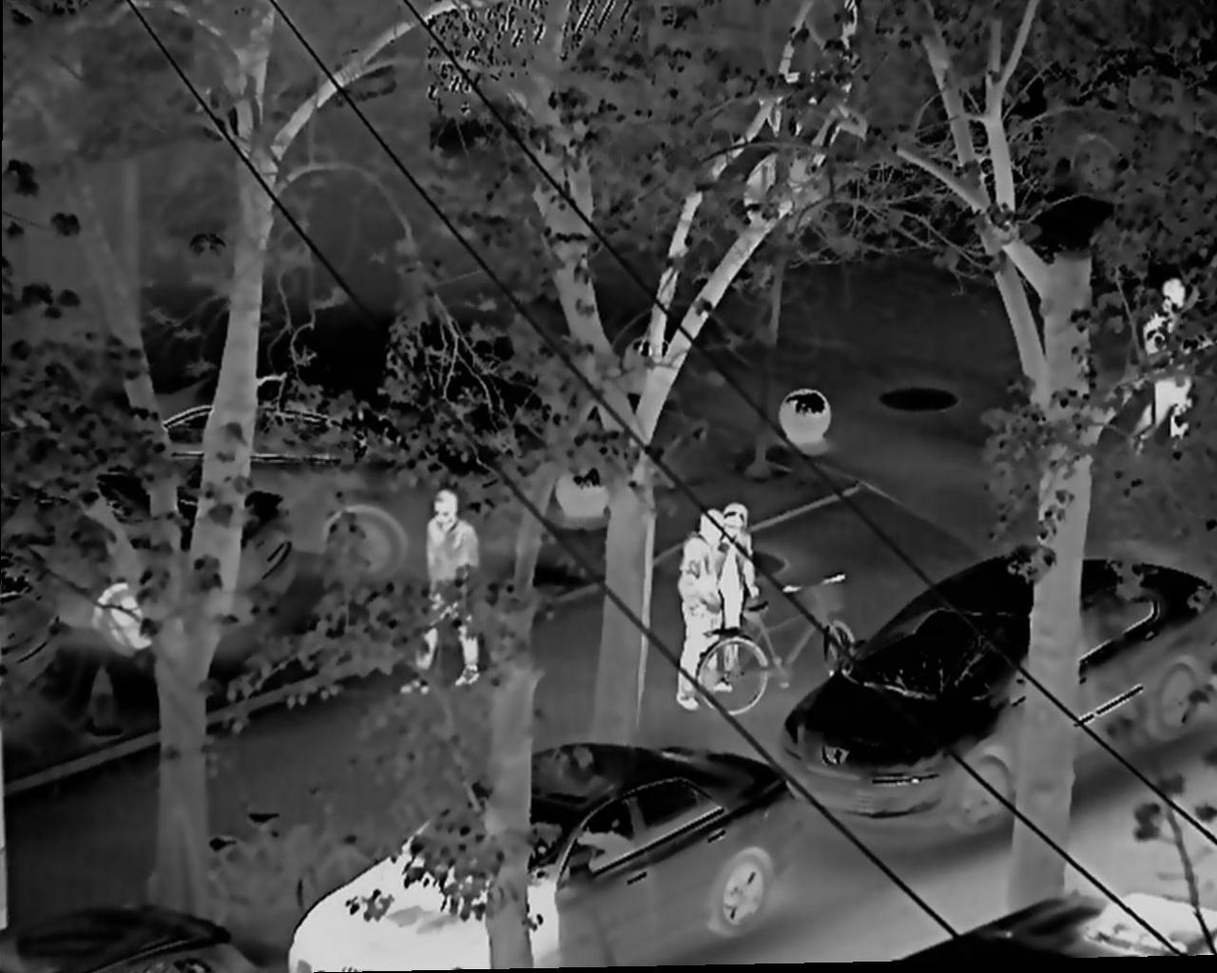person: (415, 488, 485, 686), (1126, 275, 1202, 448), (676, 533, 723, 711), (726, 499, 759, 677)
